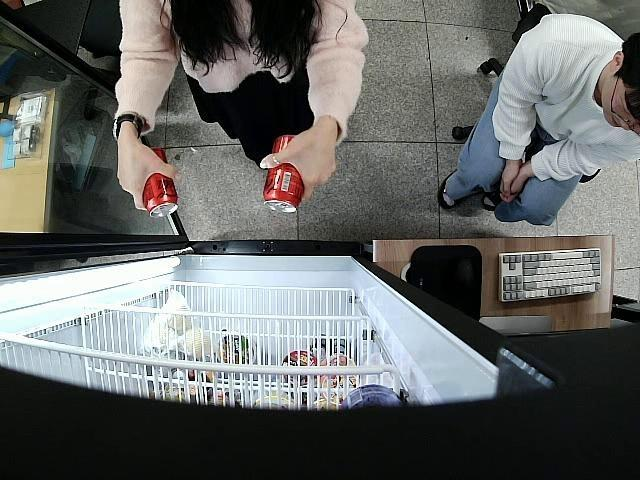11_cocaColaZero: (264, 133, 307, 214), (138, 147, 178, 218)
